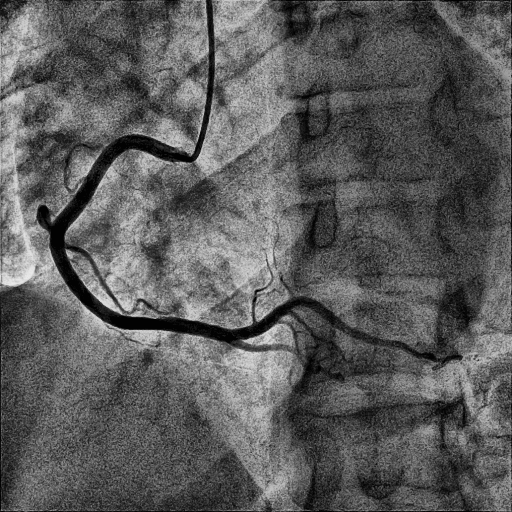pborca: (233, 296, 402, 348)
pda: (227, 340, 344, 382)
rca: (50, 134, 237, 342)
